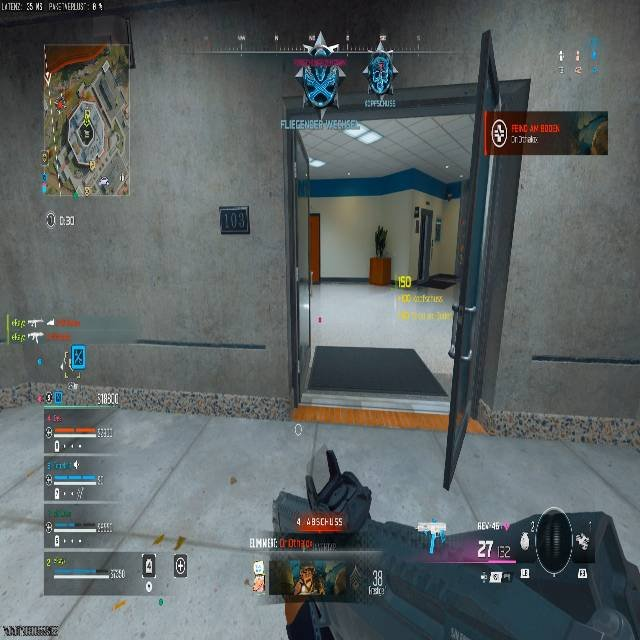player: (286, 564, 329, 639), (296, 62, 342, 123), (364, 42, 397, 102), (373, 225, 386, 253)
